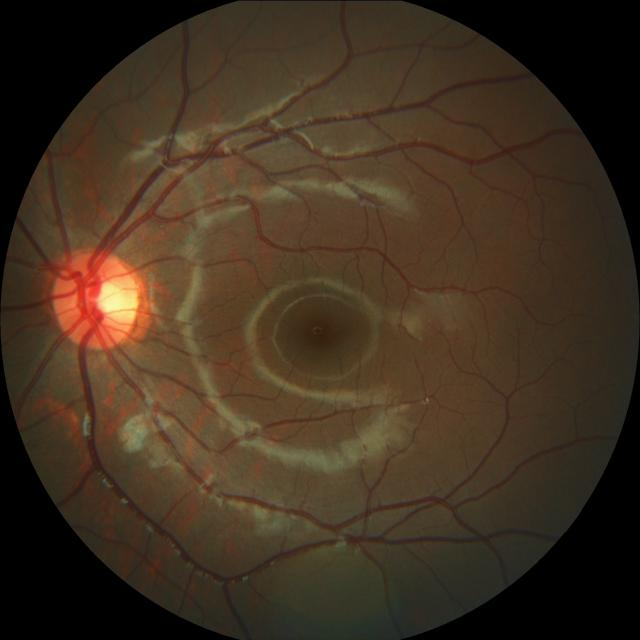OC: (80, 275, 122, 319)
OD: (51, 248, 138, 347)
